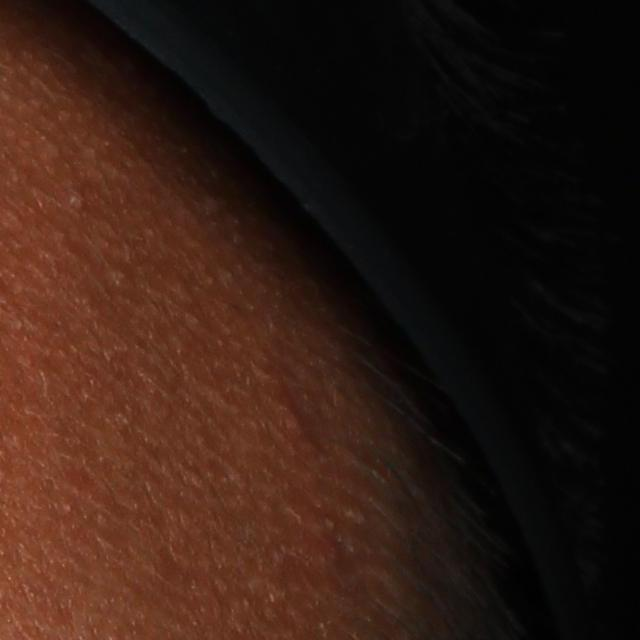comedo: (66, 181, 93, 212)
papule: (280, 399, 302, 430)
